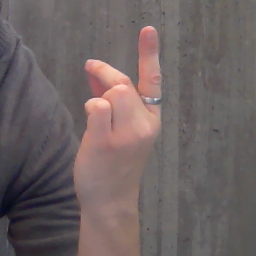K: (71, 24, 169, 198)
